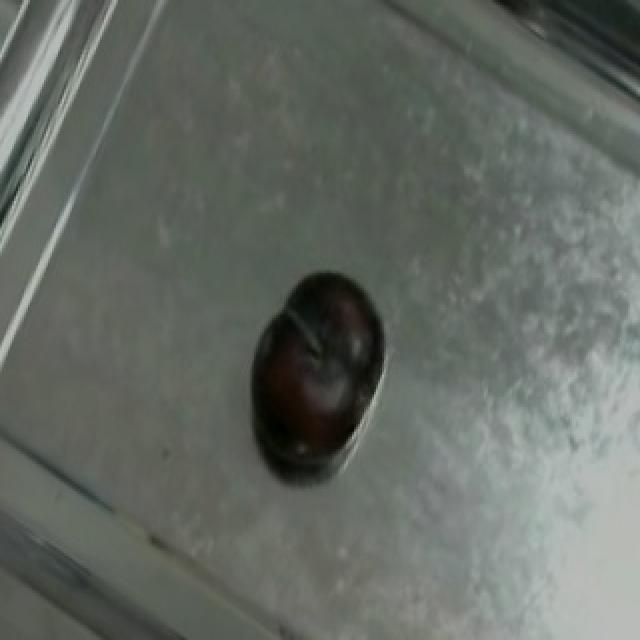Fruit: (232, 250, 396, 452)
